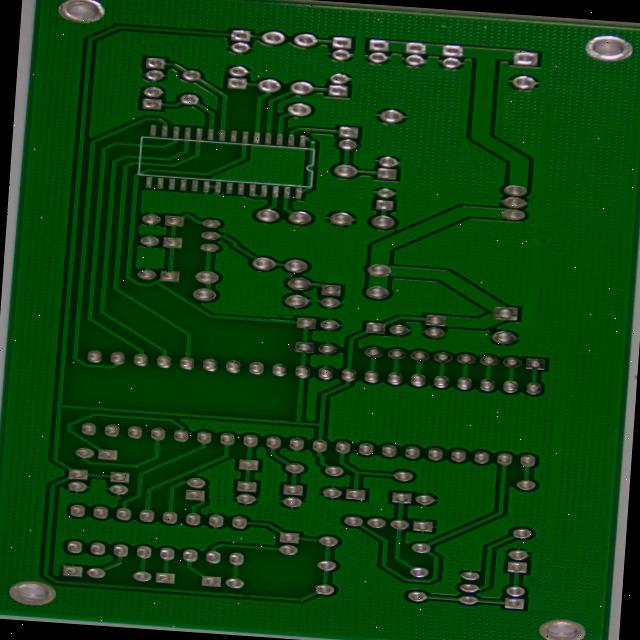spur: (9, 503, 35, 516), (114, 597, 135, 608), (11, 464, 30, 474)
